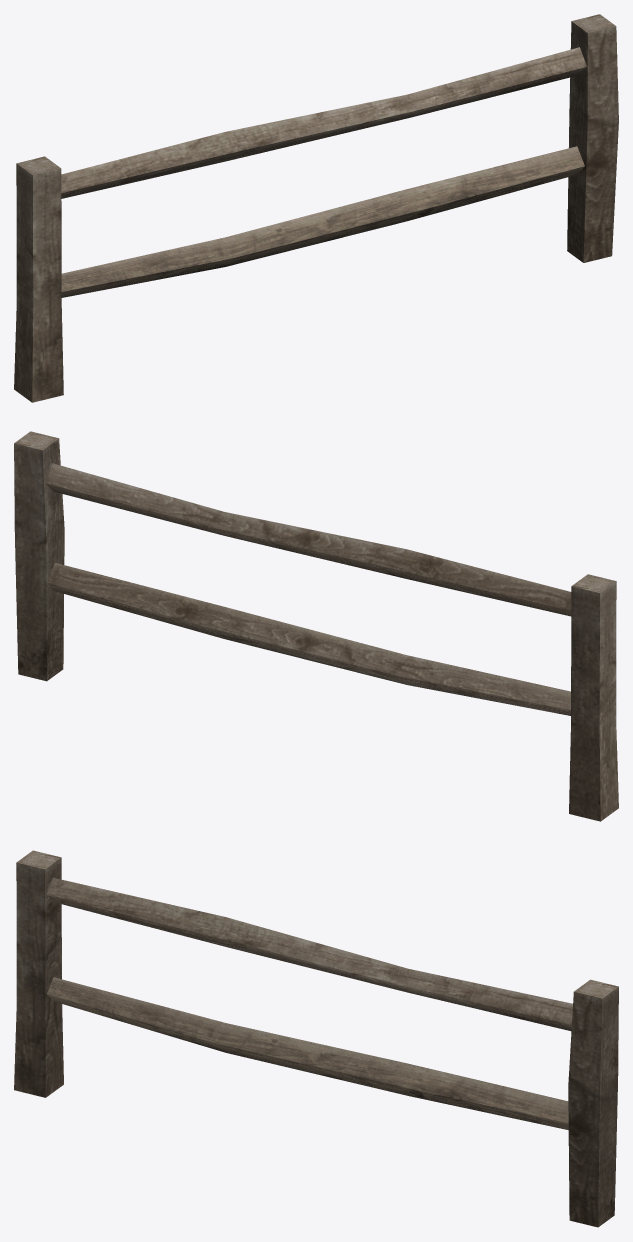
Rendered from Wooden_Fence.dae.
3 views of the same model, one above another, from view 1: azimuth 30°, elevation 25°; view 2: azimuth 150°, elevation 25°; view 3: azimuth 330°, elevation 25° (orthographic).
Parts seen in each view (by area): view 1: Fence1; view 2: Fence1; view 3: Fence1.
Boxes of the visible parts, left/top/right/bottom form: Fence1: left=14, top=14, right=618, bottom=402; Fence1: left=14, top=431, right=618, bottom=821; Fence1: left=14, top=850, right=618, bottom=1227.
Bounding box in the file's own units: 4.01 × 1.53 × 0.2369.
Materials: 1 (1 with a texture image).
